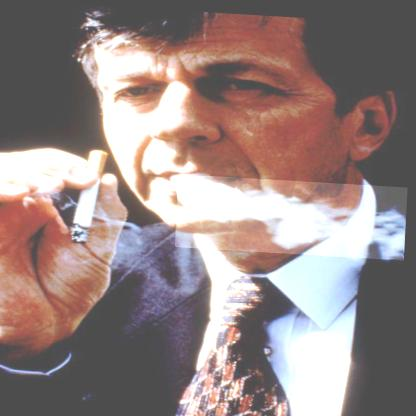smoke: (177, 172, 409, 255)
